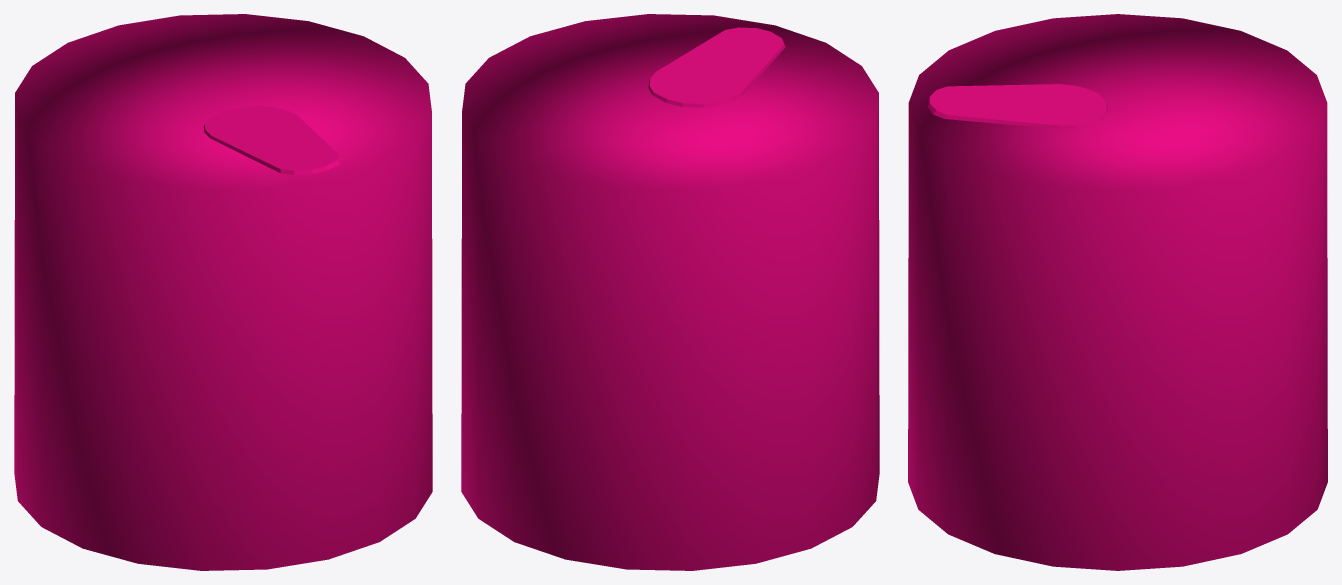
Rendered from Canned_Food_07_Lod0.fbx.
3 renders of one model, left to right at view 1: azimuth 30°, elevation 25°; view 2: azimuth 150°, elevation 25°; view 3: azimuth 270°, elevation 25°, orthographic.
Visible parts, largest first — view 1: Canned_Food_07_Lod0; view 2: Canned_Food_07_Lod0; view 3: Canned_Food_07_Lod0.
Boxes of the visible parts, x1,y1,x2,y2 form: Canned_Food_07_Lod0: [14, 14, 432, 570]; Canned_Food_07_Lod0: [461, 14, 879, 570]; Canned_Food_07_Lod0: [908, 14, 1327, 570].
Bounding box in the file's own units: 11.62 × 11.69 × 11.62.
